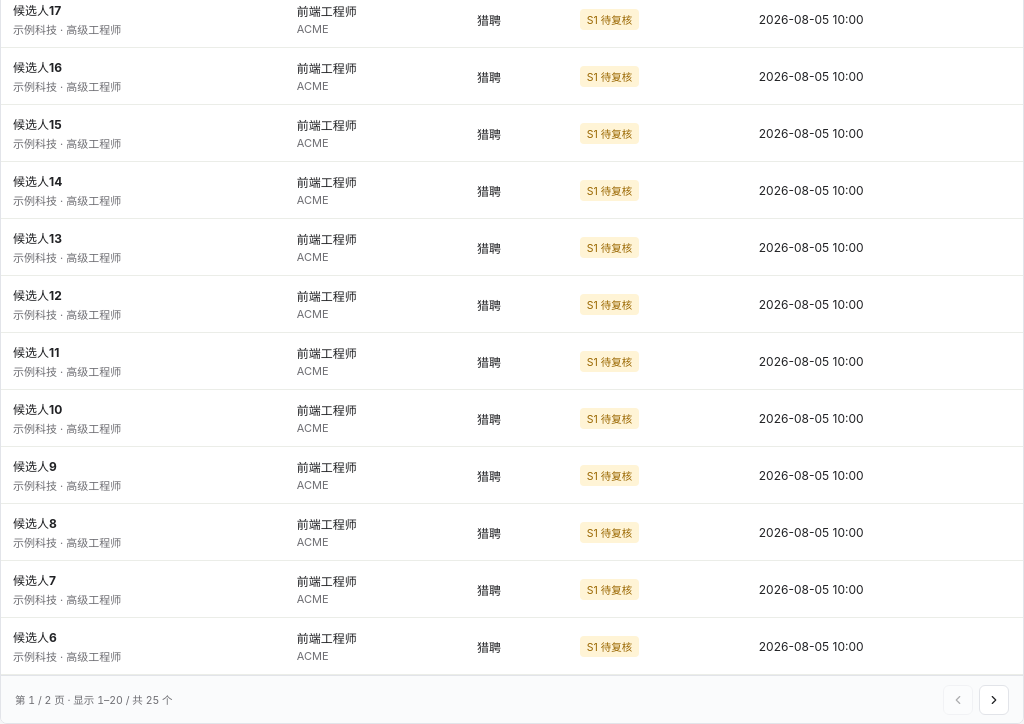
Test: 候选人列表 Candidates › 默认按更新时间新→旧稳定排序，超过一页时分批显示并可翻页
The width and height of the screenshot is (1024, 724).
(page scrolled)
Expected: the text "候选人5" is not shown
Expected: the text "第 1 / 2 页 · 显示 1–20 / 共 25 个" is shown, [15,692,173,707]
Click the button named "下一页".
click(994, 700)  # box [979,684,1009,714]
(page scrolled)
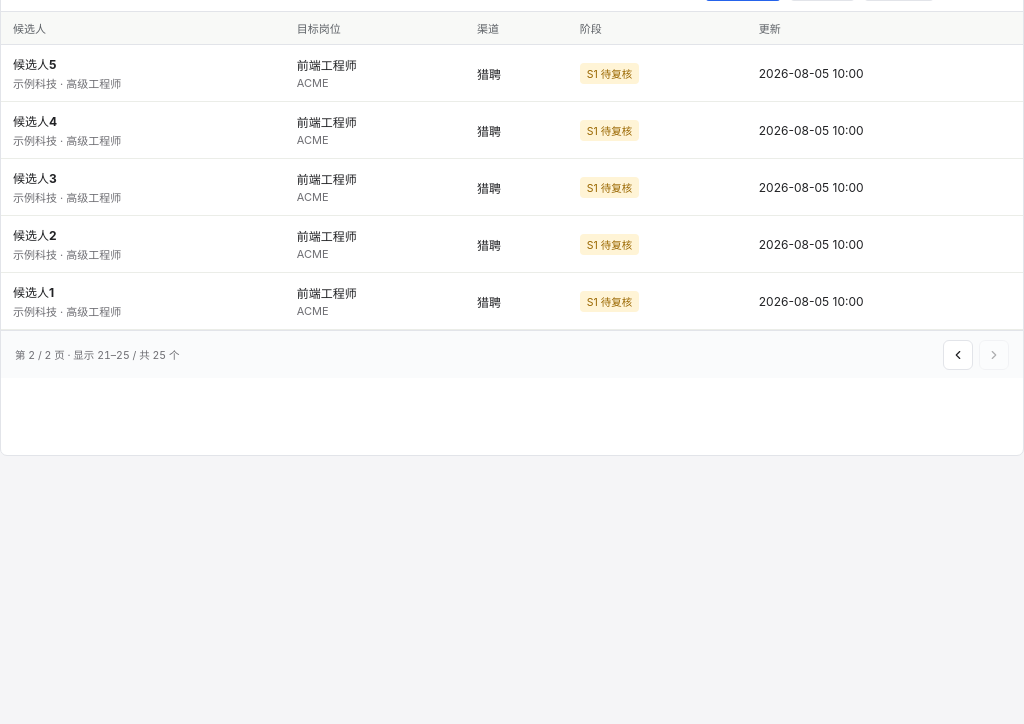
Now the number of rows is 6, box [1,12,1023,44]; [1,45,1023,102]; [1,102,1023,158]; [1,158,1023,216]; [1,216,1023,272]; [1,272,1023,330]
Now the text "候选人5" is shown, box [13,57,56,72]
Now the text "第 2 / 2 页 · 显示 21–25 / 共 25 个" is shown, box [15,347,179,362]
Click the button named "上一页".
click(958, 354)  # box [943,340,973,370]
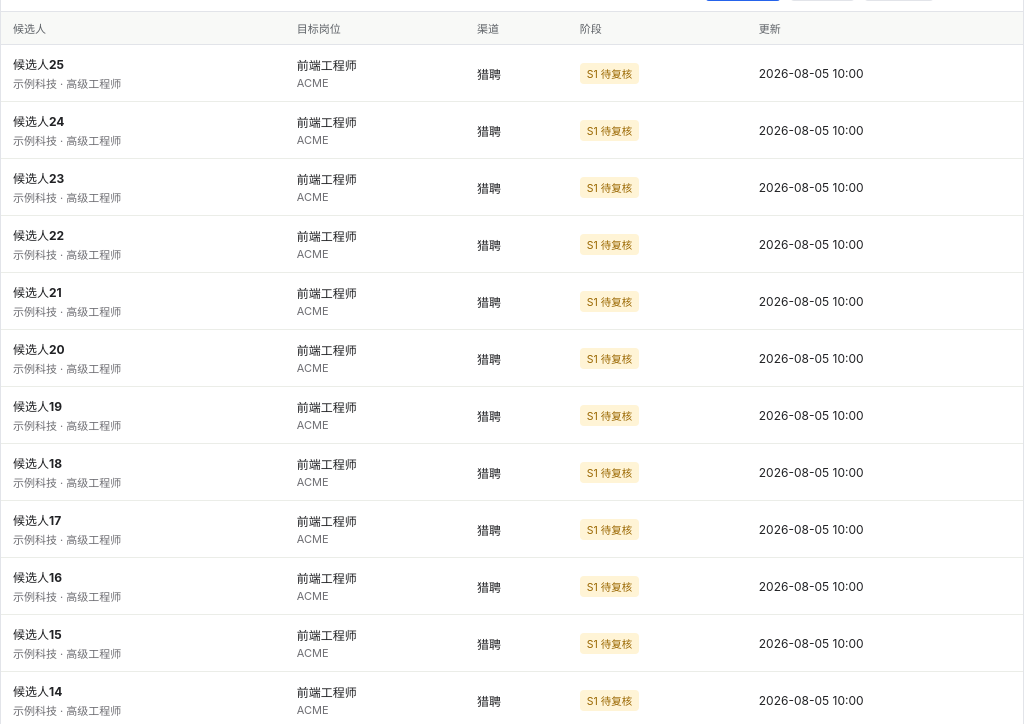
Now the text "候选人25" is shown, box [13,57,64,72]
Now the text "候选人5" is gone
